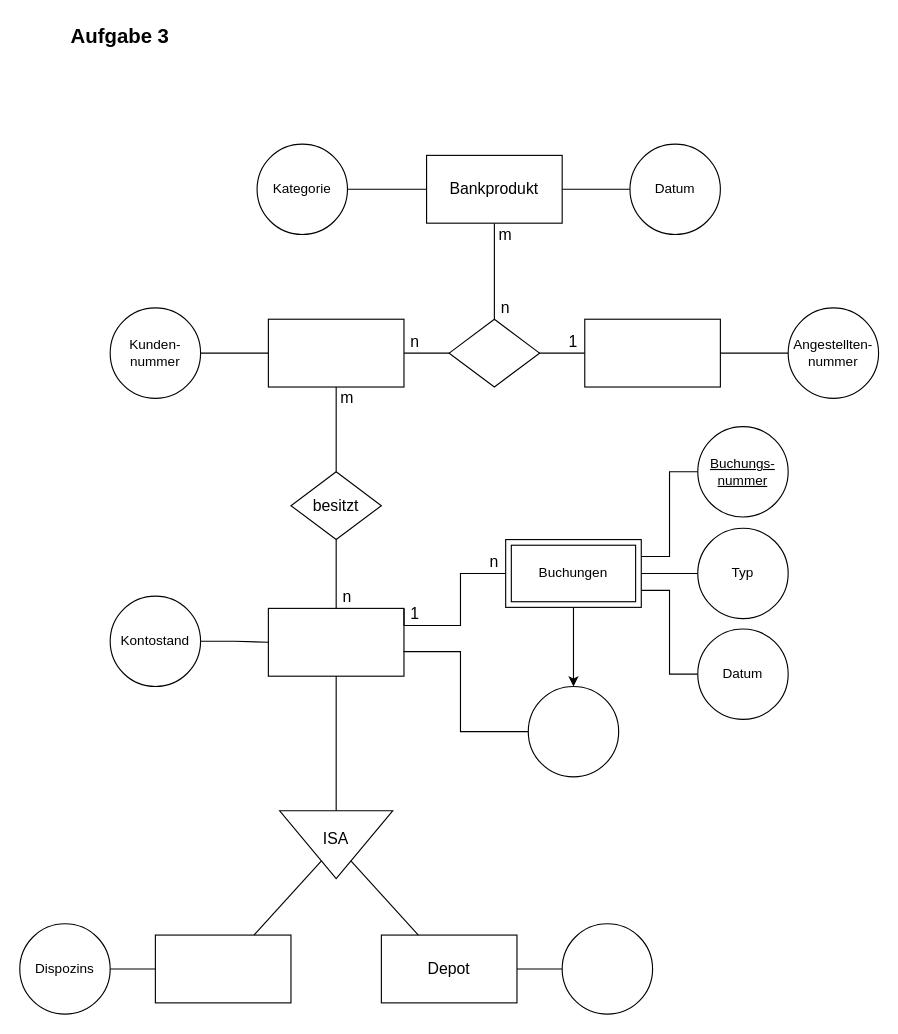
Some shapes in this 898 by 1034 pixel diagram are drawn without their labels. Each missing label, with the centre of its shape:
"Anzahl Einzelposten" belongs at [607,968].
"Berater" belongs at [652,352].
"berät" belongs at [494,352].
"Girokonto" belongs at [222,968].
"Konto" belongs at [335,641].
"Konto ID" belongs at [573,731].
"Kunde" belongs at [335,352].
